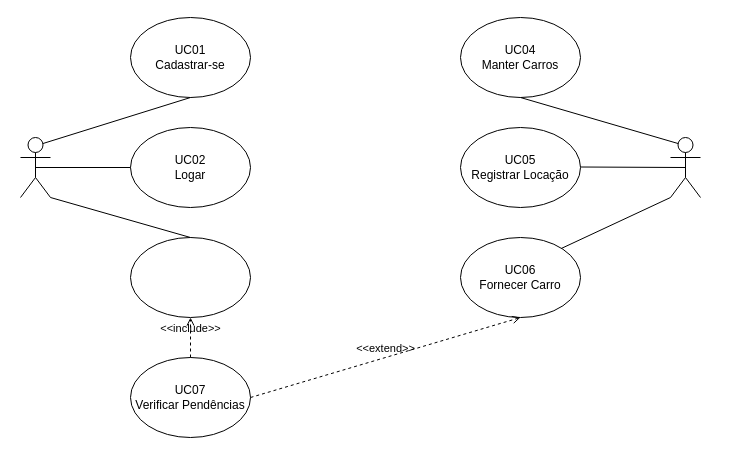
The diagram is 734 pixels wide and 455 high, and some of its shapes have lost their labels. Here are the shapes that lost their labels. From the top down, the centre of each, then its label:
At pixel 35 167: "Cliente".
At pixel 685 167: "Funcionário".
At pixel 190 277: "UC03 Locar Carro".
